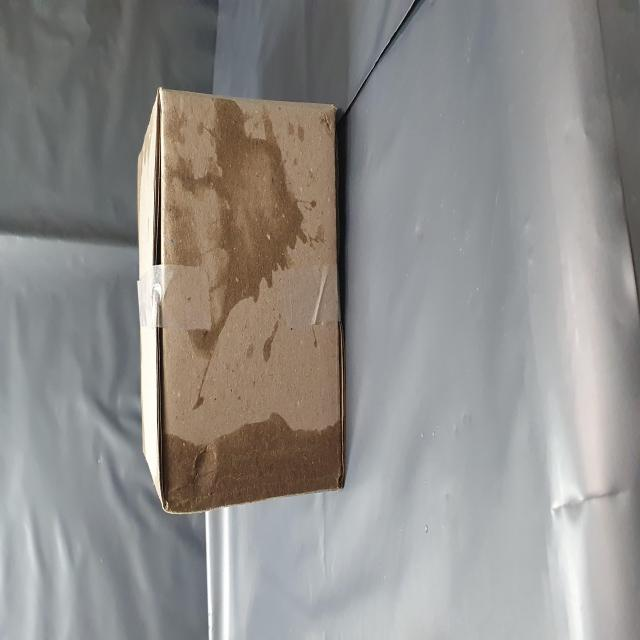wet: (148, 339, 309, 528), (78, 274, 136, 620)
